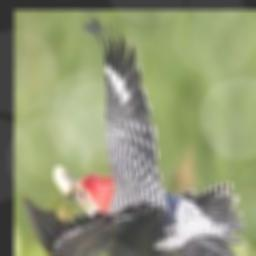Woodpecker: (22, 18, 245, 256)
